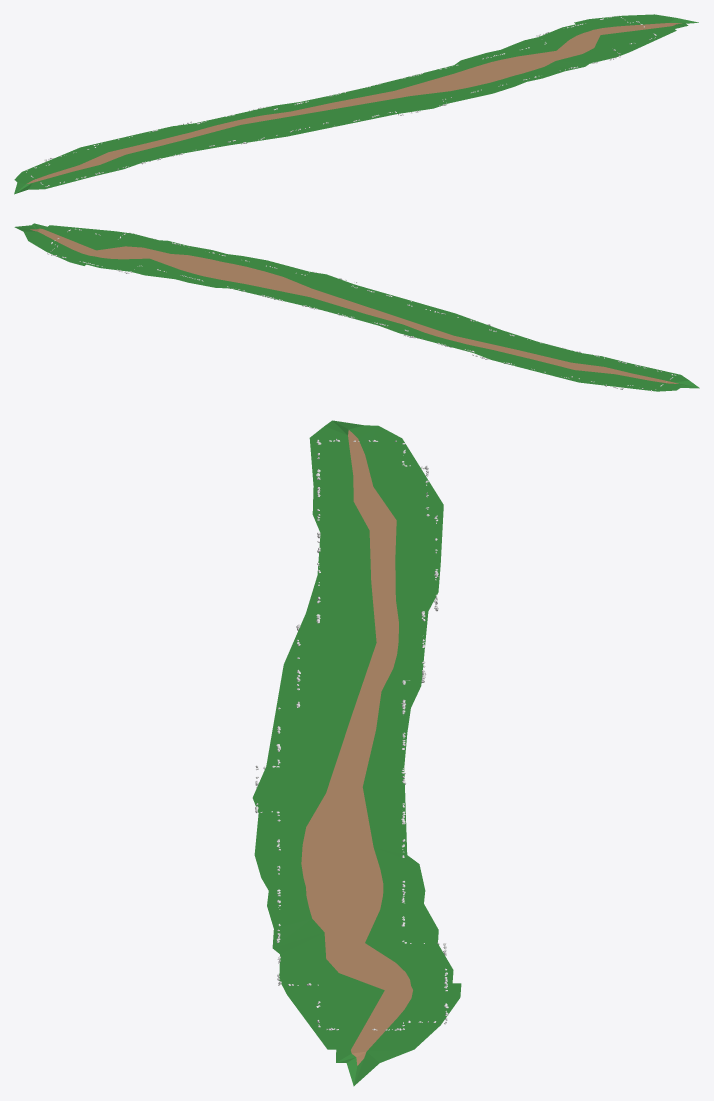
Rendered from landscape.fbx.
The picture shows the model from 3 angles, top to bottom: view 1: azimuth 30°, elevation 25°; view 2: azimuth 150°, elevation 25°; view 3: azimuth 270°, elevation 25°; orthographic projection. The views are drawn at different scales.
Visible parts, largest first — view 1: inner_grass, dirt, rock_details_1; view 2: inner_grass, dirt, rock_details_1; view 3: inner_grass, dirt, rock_details_1.
Part boxes in pixels (x1=…): inner_grass: x1=14, y1=14, x2=698, y2=194; dirt: x1=27, y1=23, x2=681, y2=183; rock_details_1: x1=26, y1=15, x2=656, y2=187; inner_grass: x1=14, y1=223, x2=699, y2=391; dirt: x1=30, y1=228, x2=678, y2=383; rock_details_1: x1=47, y1=228, x2=676, y2=391; inner_grass: x1=252, y1=420, x2=461, y2=1086; dirt: x1=301, y1=430, x2=412, y2=1065; rock_details_1: x1=255, y1=439, x2=448, y2=1030.
Size of the model in its own units: 2073 by 16.45 by 275.
